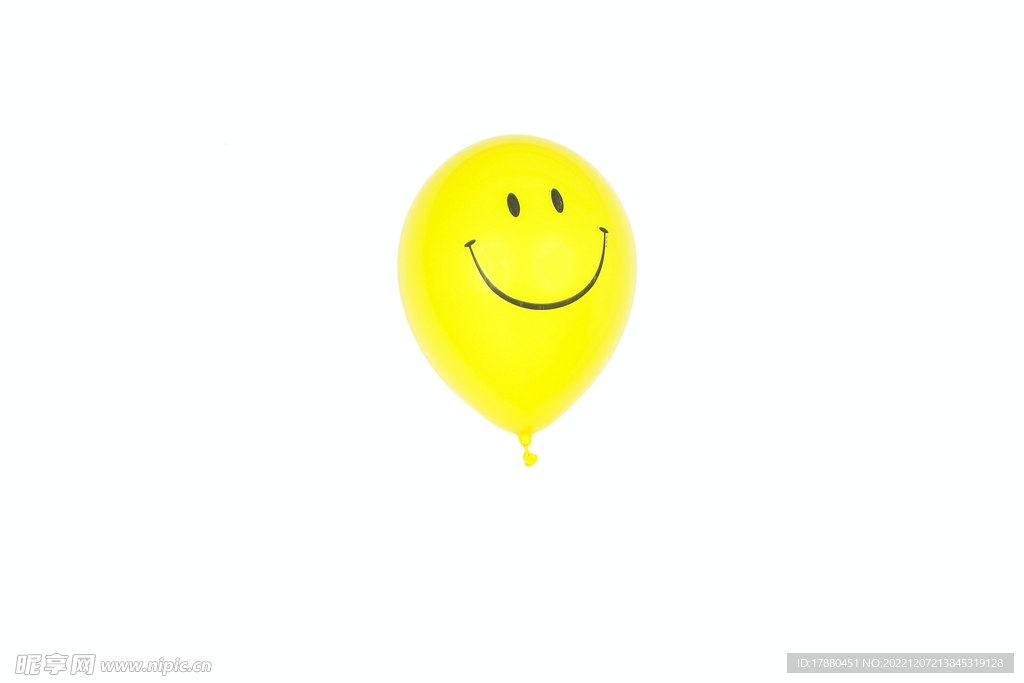balloon: (398, 137, 635, 463)
